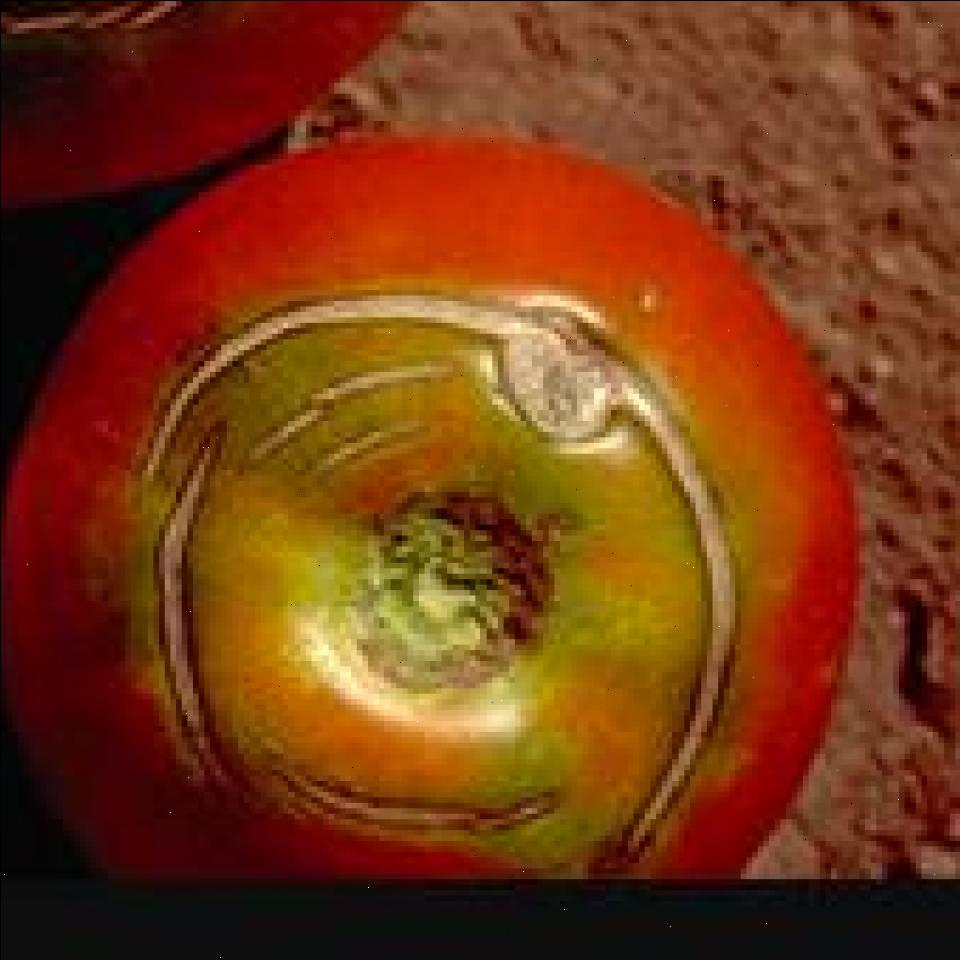Cracking: (121, 288, 747, 879), (147, 416, 248, 804), (264, 709, 567, 838), (248, 344, 467, 486)
